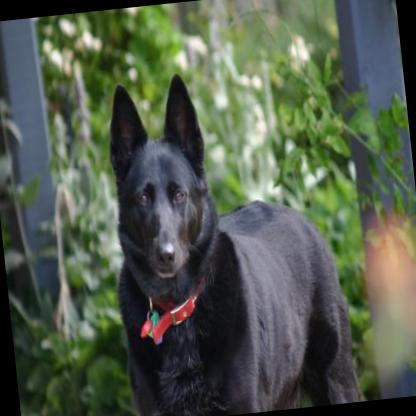kelpie: (91, 53, 365, 416)
